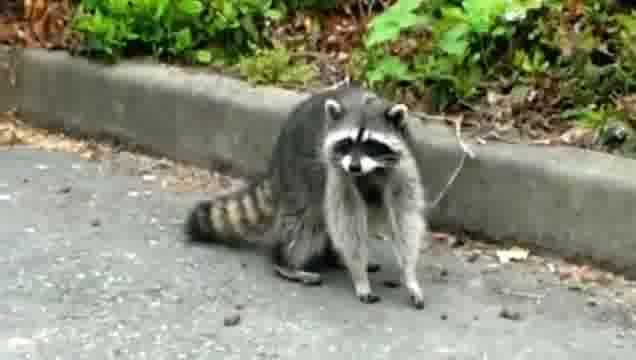raccoon: (185, 89, 430, 310)
